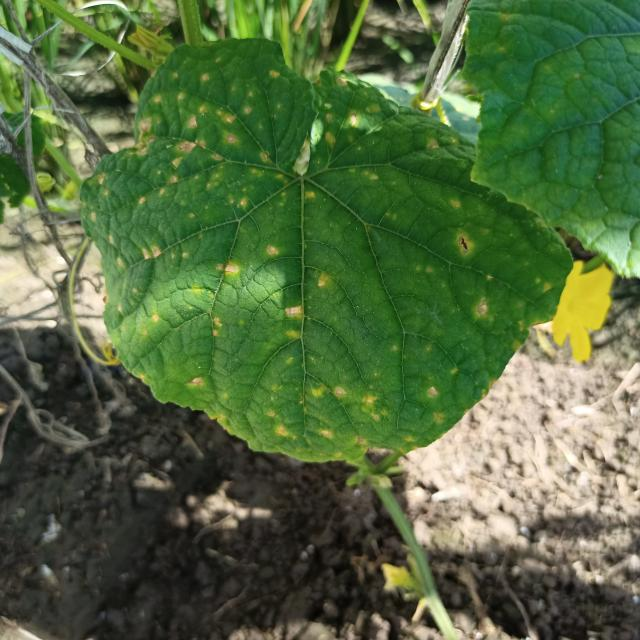disease_cucumber: (84, 54, 541, 458)
